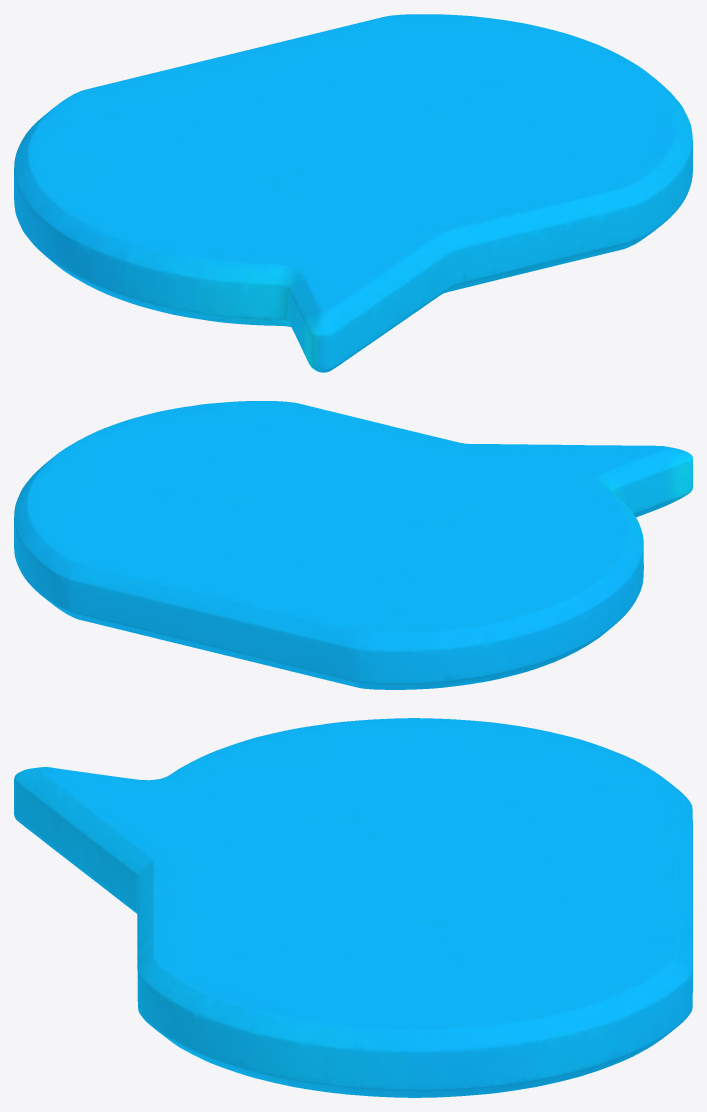
The model's file is speech-bubble.glb.
3 renders of one model, top to bottom at view 1: azimuth 30°, elevation 25°; view 2: azimuth 150°, elevation 25°; view 3: azimuth 270°, elevation 25°, orthographic. The views are drawn at different scales.
Bounding box in the file's own units: 1.9 × 0.185 × 1.67.
Materials: 1 (1 with a texture image).
